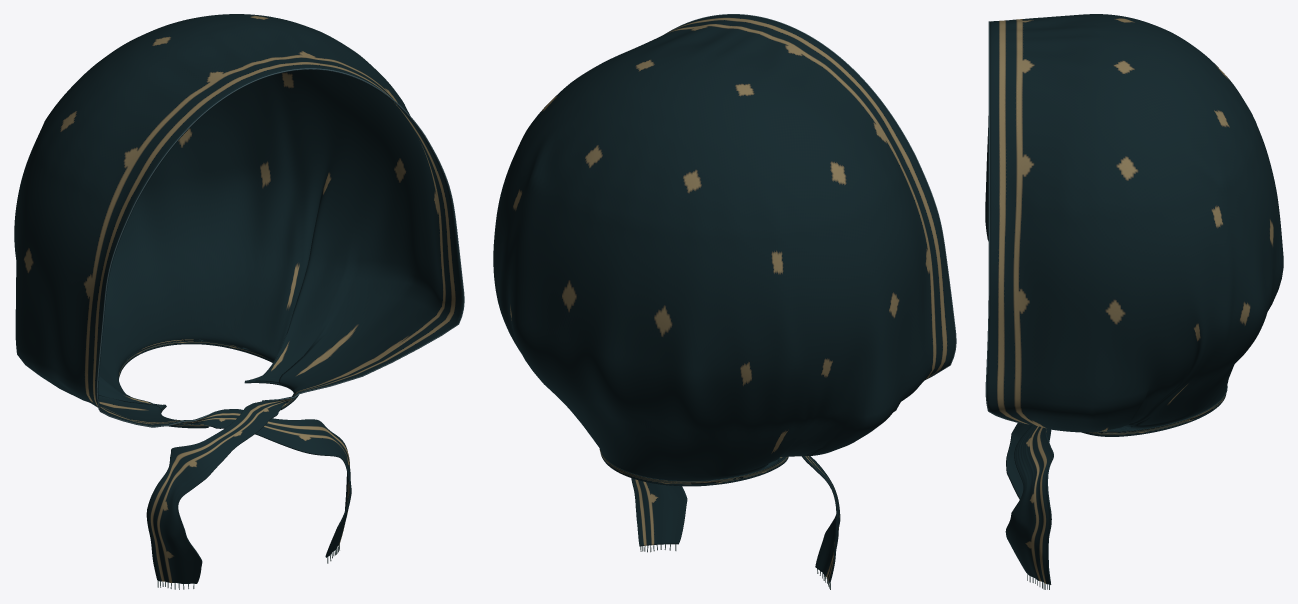
Rendered from Feminine-triangle-gathered-pashmina248-headgear.glb.
The picture shows the model from 3 angles, left to right: view 1: azimuth 30°, elevation 25°; view 2: azimuth 150°, elevation 25°; view 3: azimuth 270°, elevation 25°; orthographic projection. The views are drawn at different scales.
Parts seen in each view (by area): view 1: 226 headgear / Headwear / continuous woven pashmina239, 226 headgear / Headwear / face edge239; view 2: 226 headgear / Headwear / continuous woven pashmina239, 226 headgear / Headwear / face edge239; view 3: 226 headgear / Headwear / continuous woven pashmina239, 226 headgear / Headwear / face edge239.
Boxes of the visible parts, <box> form: 226 headgear / Headwear / continuous woven pashmina239: <box>14,14,463,583</box>; 226 headgear / Headwear / face edge239: <box>96,68,464,427</box>; 226 headgear / Headwear / continuous woven pashmina239: <box>493,14,955,583</box>; 226 headgear / Headwear / face edge239: <box>664,14,956,379</box>; 226 headgear / Headwear / continuous woven pashmina239: <box>985,14,1283,584</box>; 226 headgear / Headwear / face edge239: <box>985,21,1028,424</box>.
Size of the model in its own units: 1.02 by 1.35 by 0.7112.
Materials: 3 (1 with a texture image).
